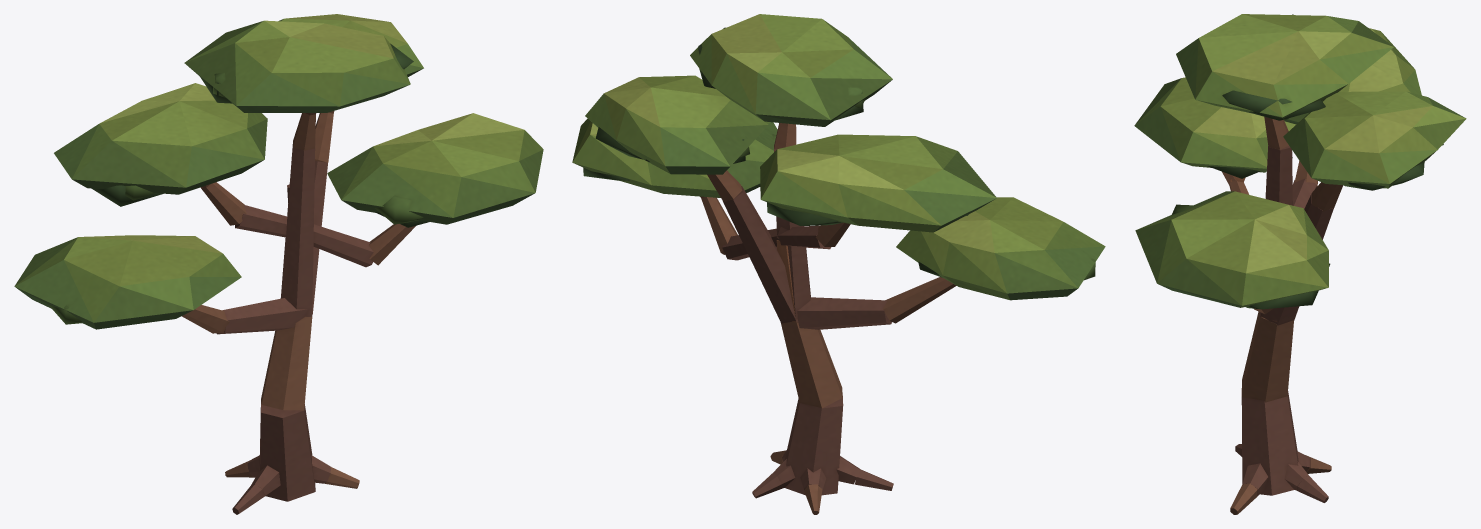
File: Grand_Dojo_Arrival_Pine_LOD1.glb
3 renders of one model, left to right at view 1: azimuth 30°, elevation 25°; view 2: azimuth 150°, elevation 25°; view 3: azimuth 270°, elevation 25°, orthographic. The views are drawn at different scales.
Visible parts, largest first — view 1: Grand Dojo Arrival Pine LOD1; view 2: Grand Dojo Arrival Pine LOD1; view 3: Grand Dojo Arrival Pine LOD1.
Boxes of the visible parts, bbox=[...] form: Grand Dojo Arrival Pine LOD1: bbox=[14, 14, 543, 514]; Grand Dojo Arrival Pine LOD1: bbox=[572, 14, 1105, 514]; Grand Dojo Arrival Pine LOD1: bbox=[1134, 14, 1466, 514].
Size of the model in its own units: 13.35 by 10.91 by 7.08.
Materials: 1 (1 with a texture image).
